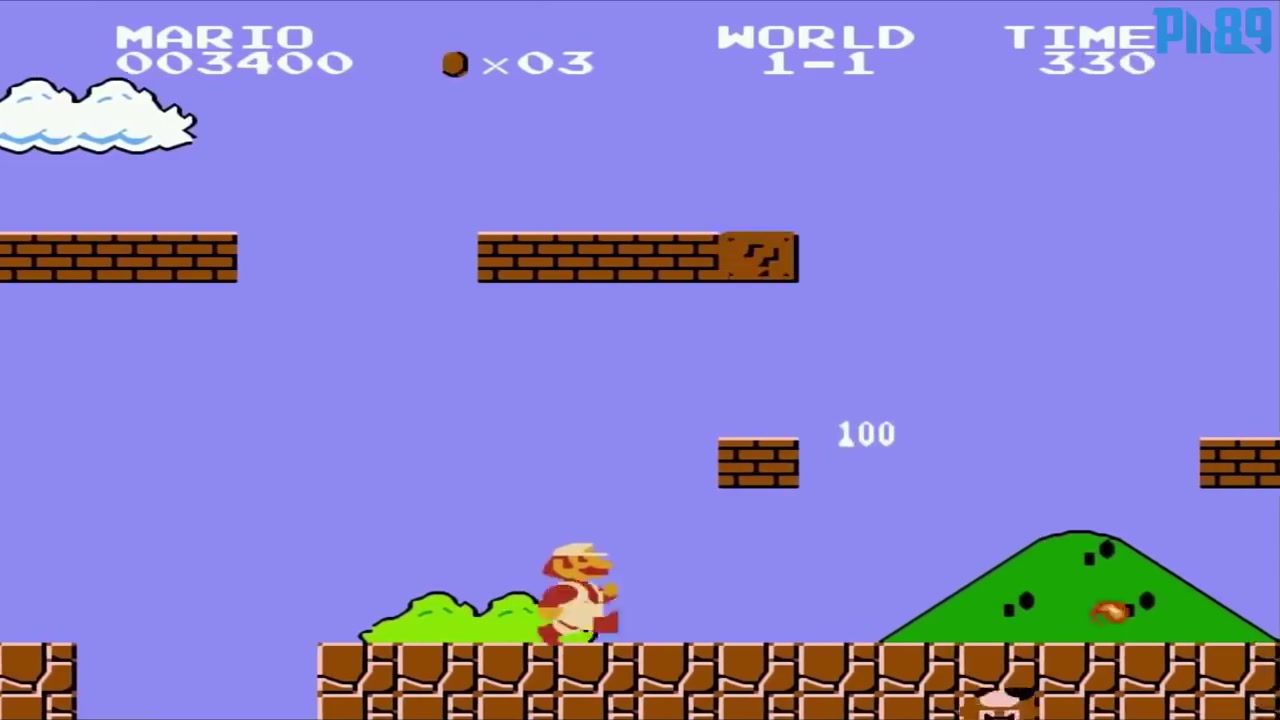mario: (525, 535, 616, 656)
